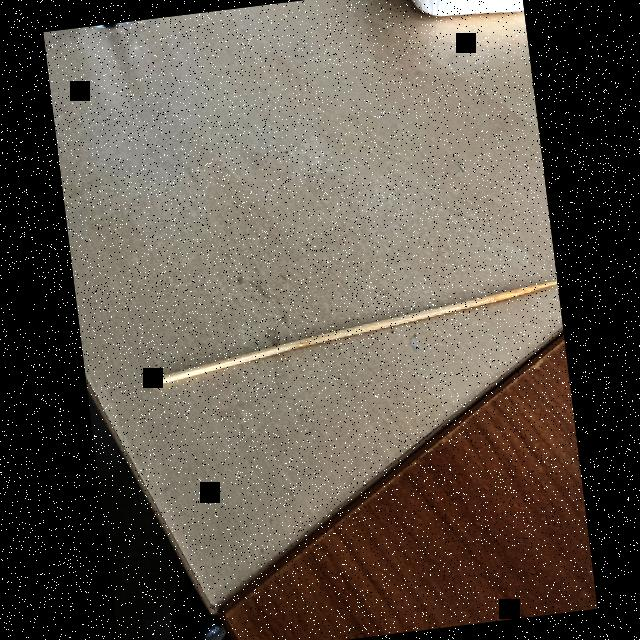stick: (127, 252, 566, 408)
